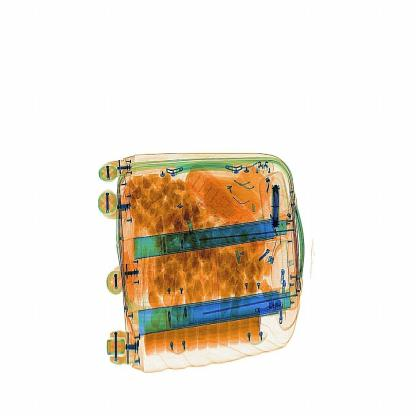scissors: (265, 185, 286, 231)
